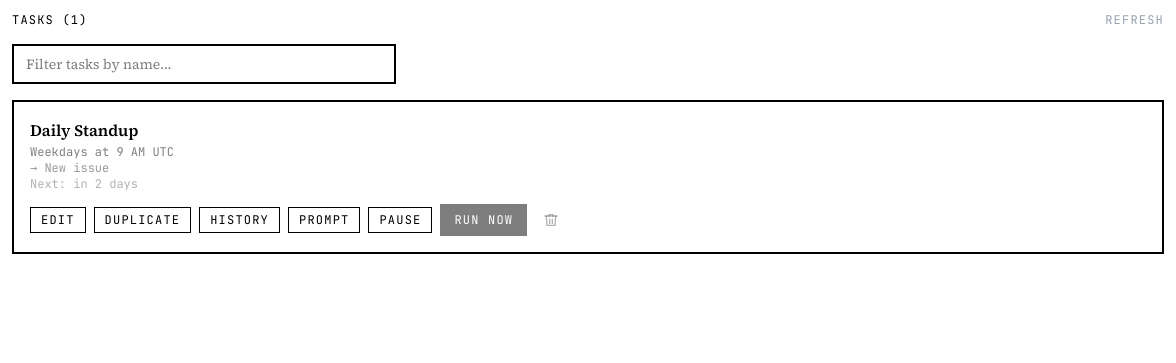
TaskList › loads run history when History is clicked
The image size is (1176, 363).
Step 1. Click the button "History" → (240, 220), box [199,207,280,233]
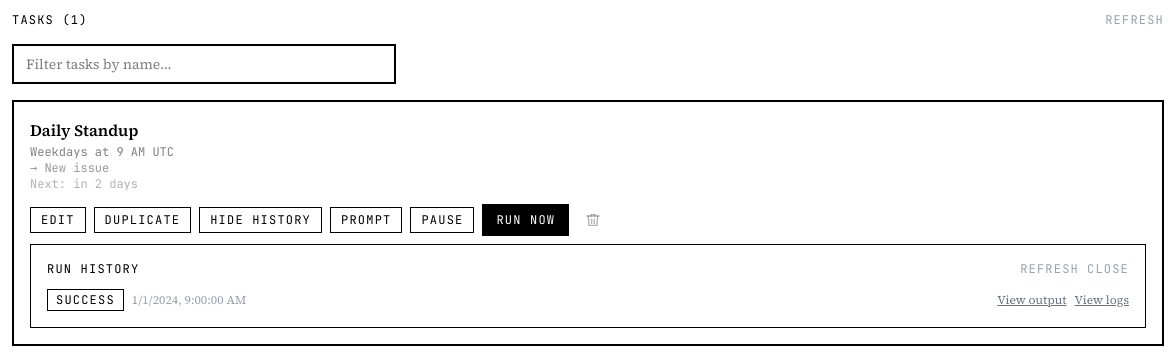
Expected: the text "Success" is shown, [47,289,124,311]
Expected: the link "View logs" is shown, [1074,292,1129,308]
